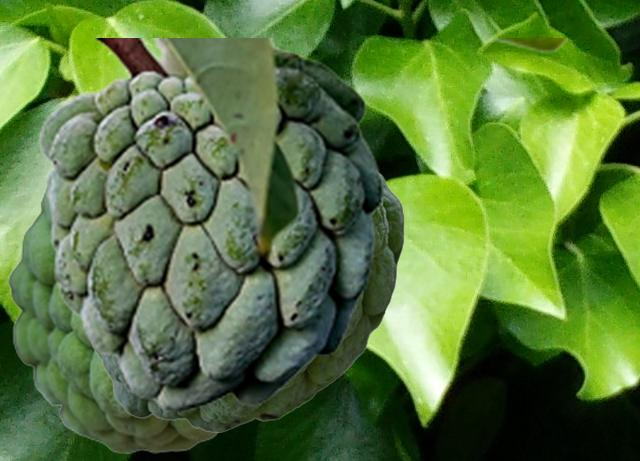atis: (37, 38, 566, 413), (88, 171, 404, 431), (7, 185, 256, 452)
